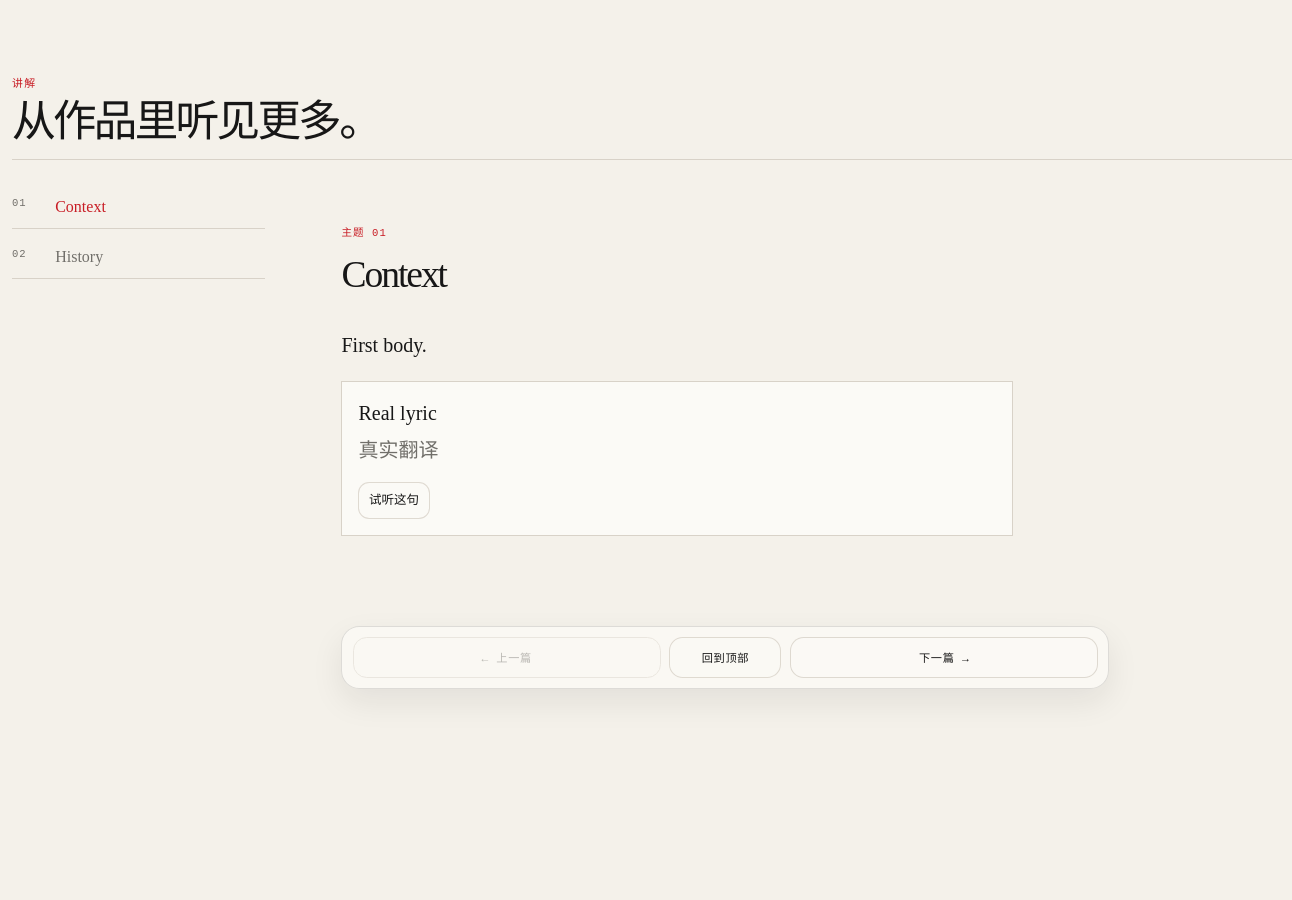
ExplainWorkspace › keeps previous, top, and next actions in a symmetric footer order
Expected: the heading "Context" is shown, [342,254,446,295]
What coordinates should you click on to do the following:
click the button "下一篇 →"
I would click on:
 (944, 657)
Its box is [790,637,1098,678].
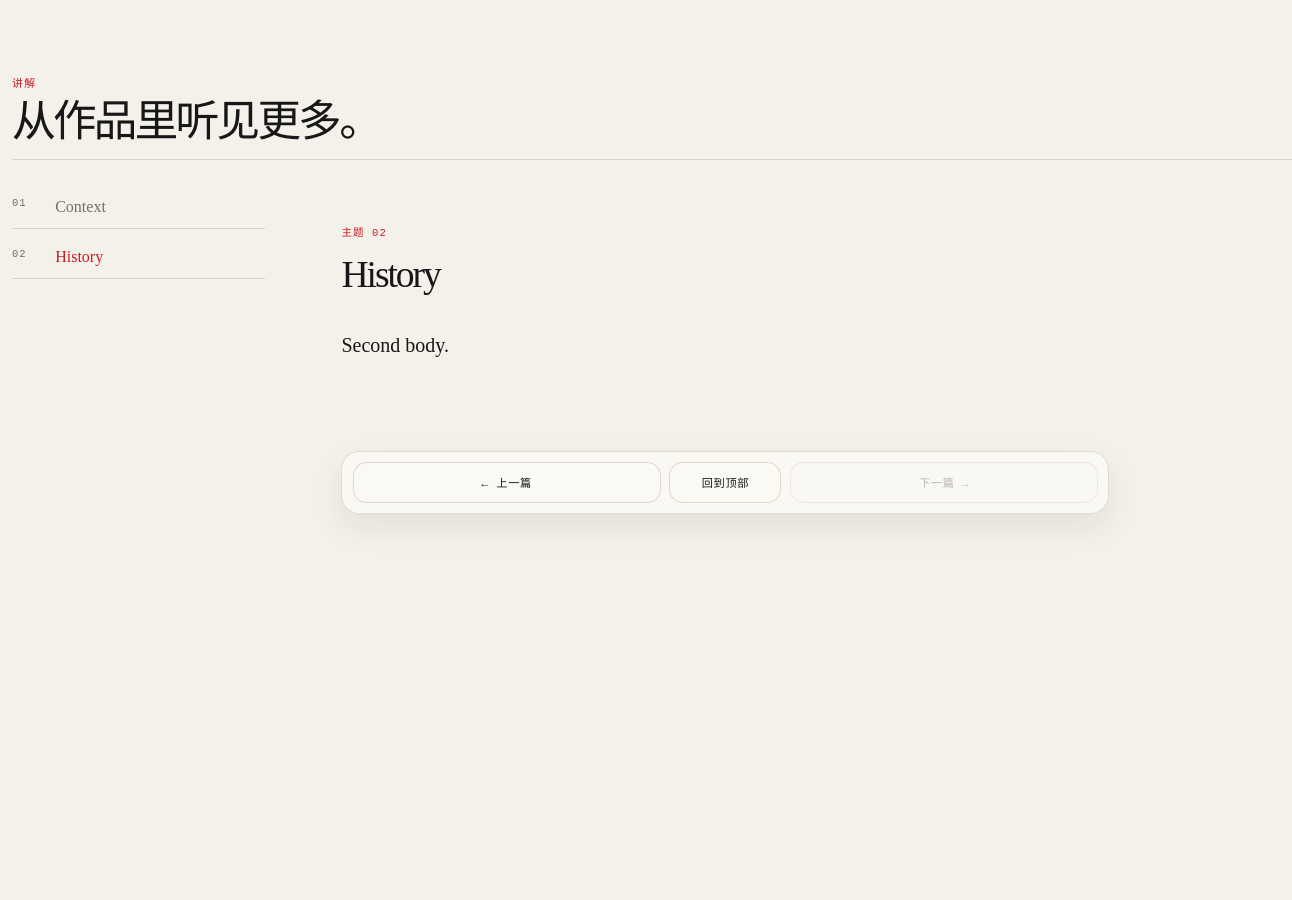
Now the heading "History" is shown, box [342,254,440,295]
What coordinates should you click on to do the following:
click the button "← 上一篇"
I would click on:
 (507, 482)
Its box is [353,462,661,503].
(page scrolled)
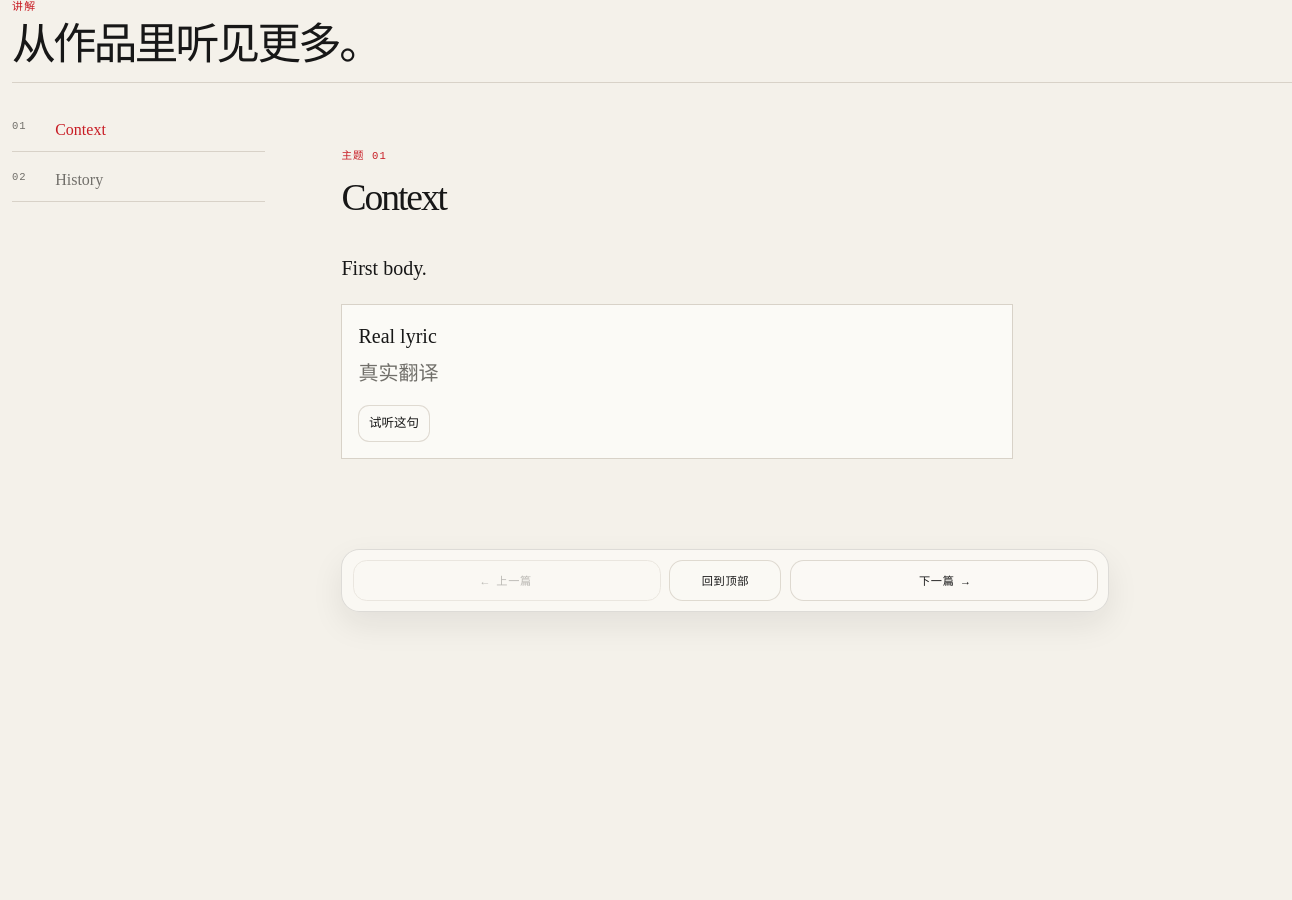
Now the heading "Context" is shown, box [342,177,446,218]
